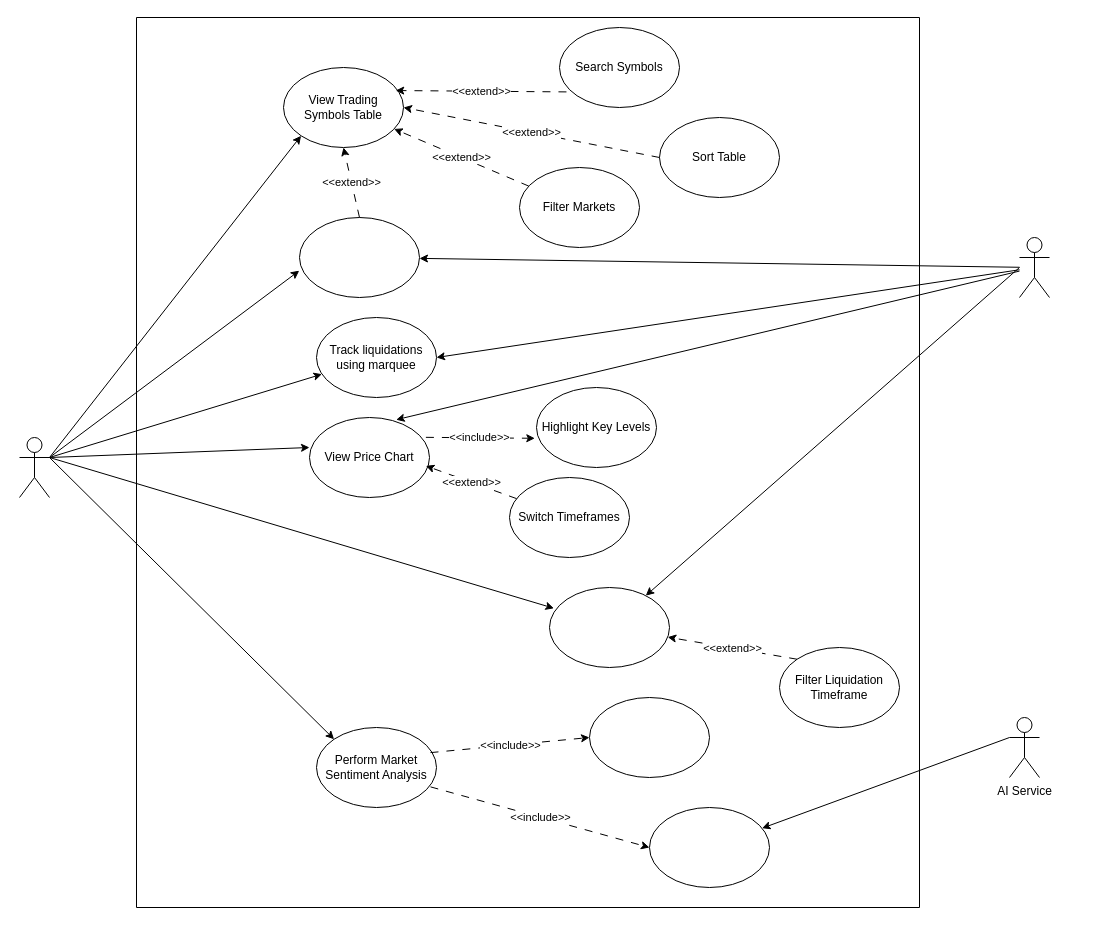
This 1101x925 diagram has some shape labels left out. Each missing label, with the centre of its shape:
Fetch News Sources: the point at 649,737
Okx Data Provider: the point at 1034,267
Run Neural Network Analysis: the point at 709,847
Select Symbol and Update Chart: the point at 359,257
Trader: the point at 34,467
View Total Liquidation Information: the point at 609,627
